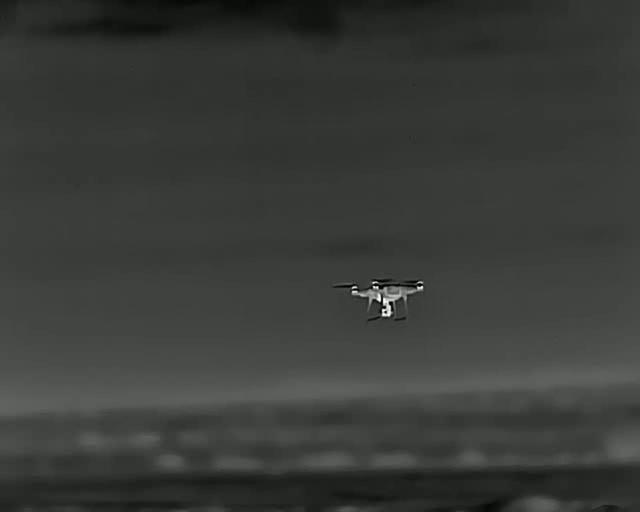DJI-Phantom: (330, 277, 426, 322)
